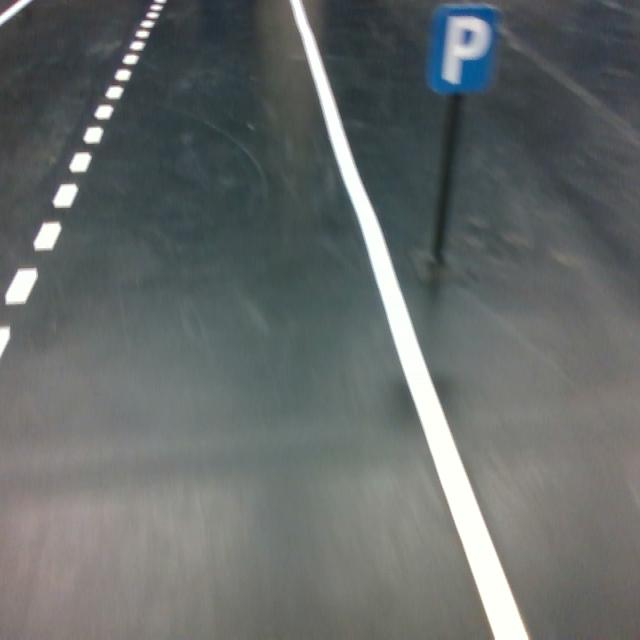parking-sign: (424, 0, 500, 97)
